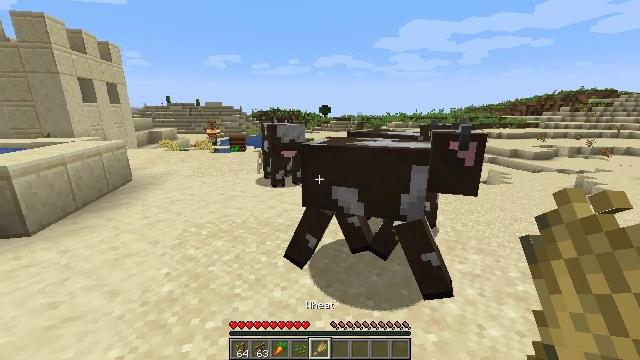cow: (284, 133, 489, 298), (260, 121, 304, 192)
